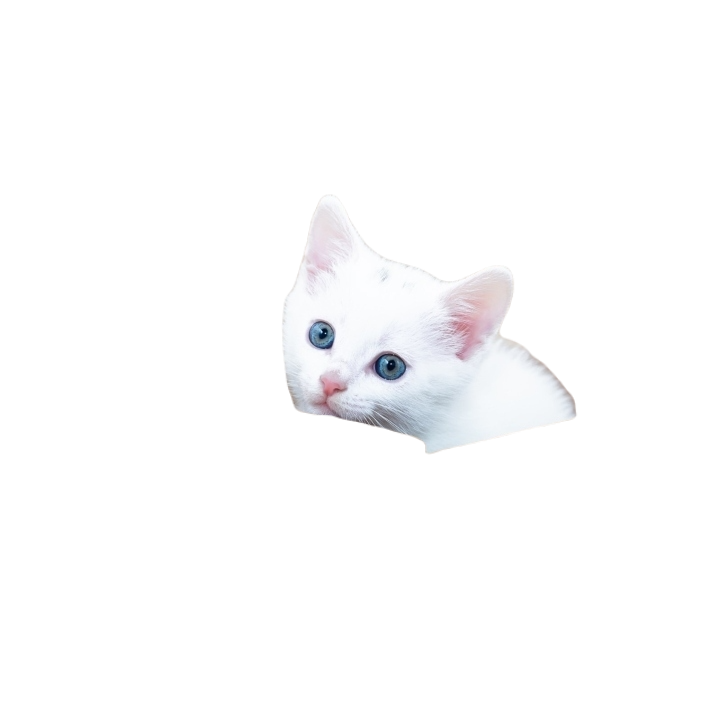Cat: (276, 178, 579, 488)
